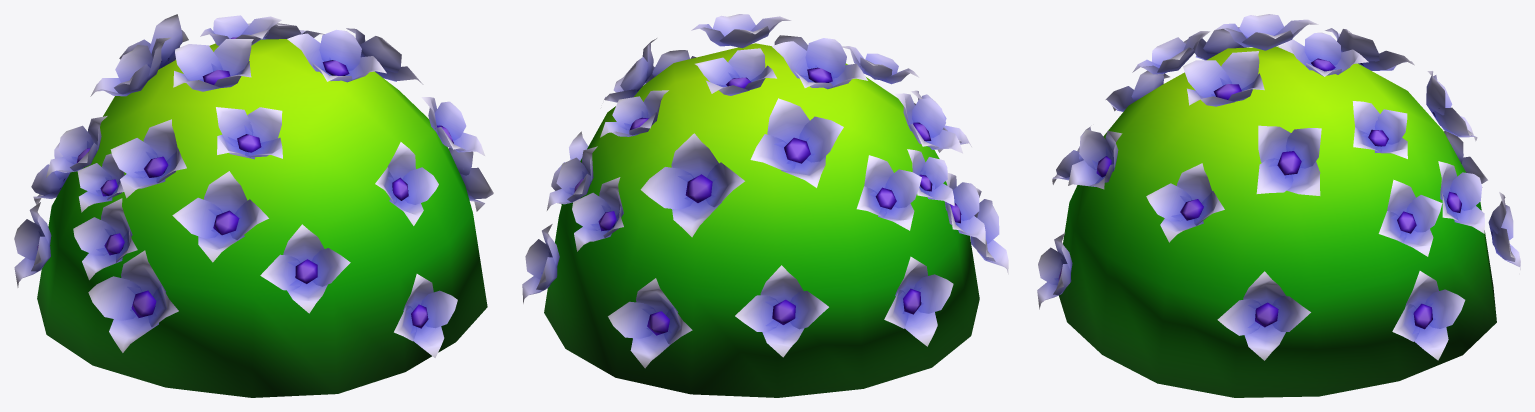
Rendered from Bush2_LOD1.fbx.
3 renders of one model, left to right at view 1: azimuth 30°, elevation 25°; view 2: azimuth 150°, elevation 25°; view 3: azimuth 270°, elevation 25°, orthographic.
Visible parts, largest first — view 1: Bush2; view 2: Bush2; view 3: Bush2.
Part boxes in pixels (left/top/right/bottom): Bush2: left=14, top=14, right=493, bottom=397; Bush2: left=522, top=14, right=1008, bottom=397; Bush2: left=1037, top=14, right=1520, bottom=397.
Bounding box in the file's own units: 121 × 73.76 × 123.
1 material, 1 textured.
